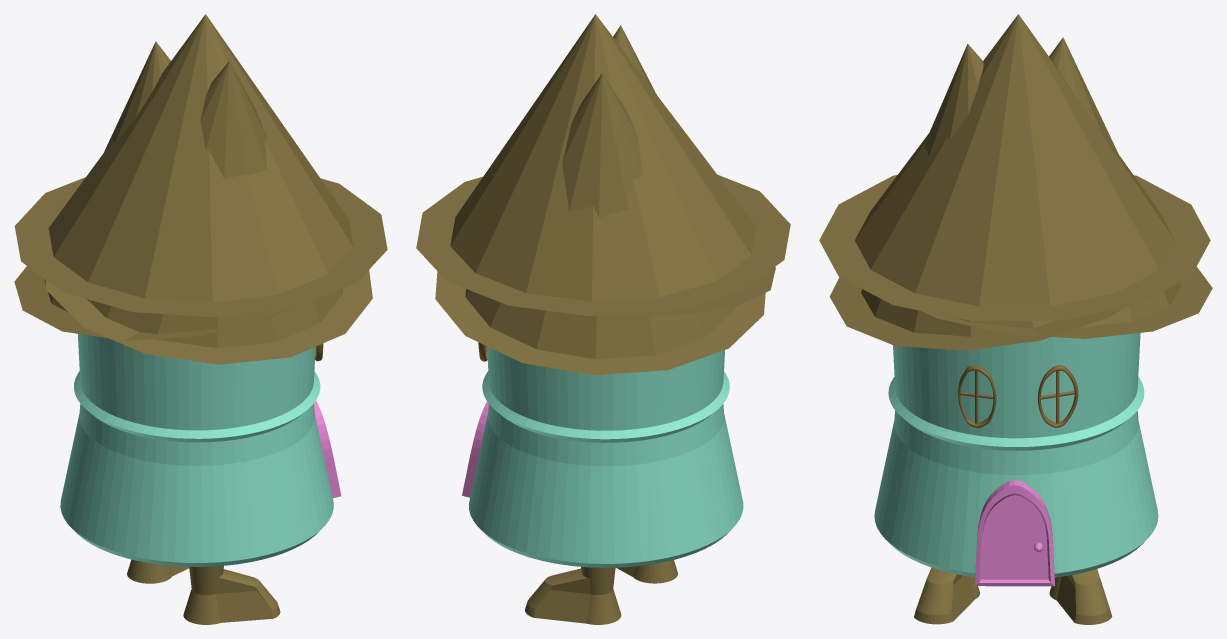
Rendered from munchkins_model.glb.
The picture shows the model from 3 angles, left to right: view 1: azimuth 30°, elevation 25°; view 2: azimuth 150°, elevation 25°; view 3: azimuth 270°, elevation 25°; orthographic projection. The views are drawn at different scales.
Parts seen in each view (by area): view 1: Cone.006, Cylinder.008, Cone.007, Cone.008, Cylinder.010, Cylinder.006, Cube.008; view 2: Cone.006, Cylinder.008, Cone.008, Cylinder.006, Cone.007, Cylinder.010, Cube.008; view 3: Cone.006, Cylinder.008, Cone.007, Cube.008, Cone.008, Cylinder.010, Cylinder.006, Cylinder.009, Cylinder.007.
Part boxes in pixels (x1,y1,x2,y2): Cone.006: [14, 14, 387, 317]; Cylinder.008: [60, 334, 333, 566]; Cone.007: [45, 61, 372, 364]; Cone.008: [14, 41, 291, 340]; Cylinder.010: [183, 565, 280, 624]; Cylinder.006: [127, 559, 189, 583]; Cube.008: [314, 401, 341, 498]; Cone.006: [416, 14, 790, 316]; Cylinder.008: [469, 346, 743, 567]; Cone.008: [435, 73, 766, 375]; Cylinder.006: [525, 567, 621, 624]; Cone.007: [611, 25, 775, 316]; Cylinder.010: [616, 560, 677, 583]; Cube.008: [462, 401, 488, 497]; Cone.006: [819, 14, 1210, 320]; Cylinder.008: [874, 333, 1158, 577]; Cone.007: [829, 44, 1122, 350]; Cube.008: [975, 480, 1054, 586]; Cone.008: [921, 37, 1212, 338]; Cylinder.010: [914, 567, 979, 624]; Cylinder.006: [1049, 569, 1112, 624]; Cylinder.009: [1037, 365, 1078, 427]; Cylinder.007: [958, 365, 996, 427].
Bounding box in the file's own units: 6.23 × 10.7 × 6.43.
